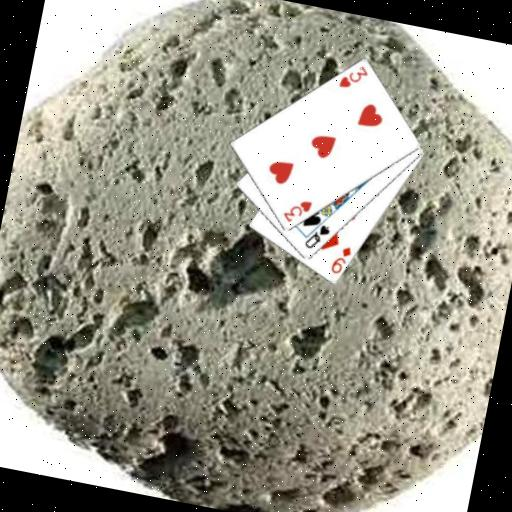3H: (279, 194, 314, 228), (336, 60, 371, 94)
9D: (327, 241, 354, 277)
QS: (301, 219, 333, 254)
